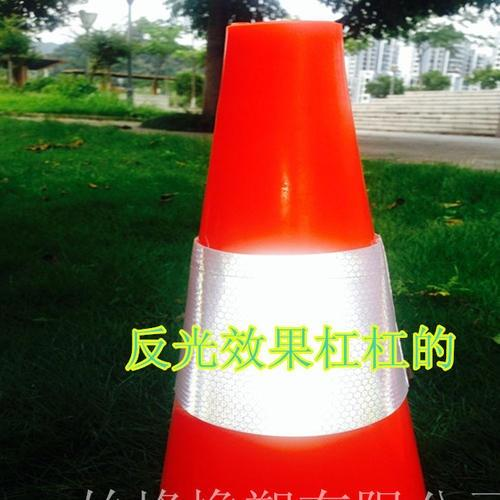cone_barrel: (154, 22, 430, 496)
